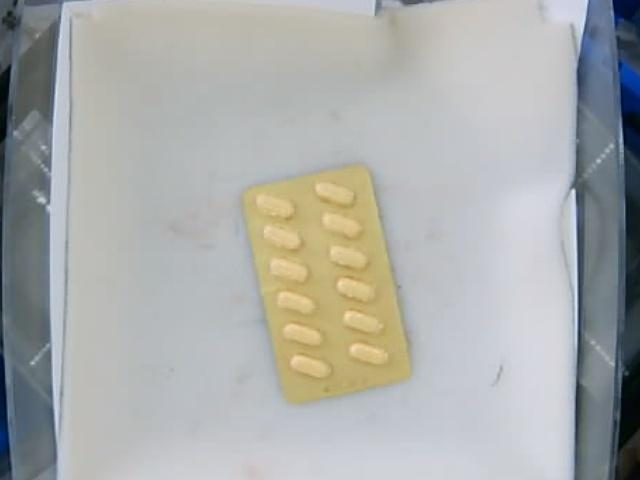Medicine: (240, 161, 413, 407)
